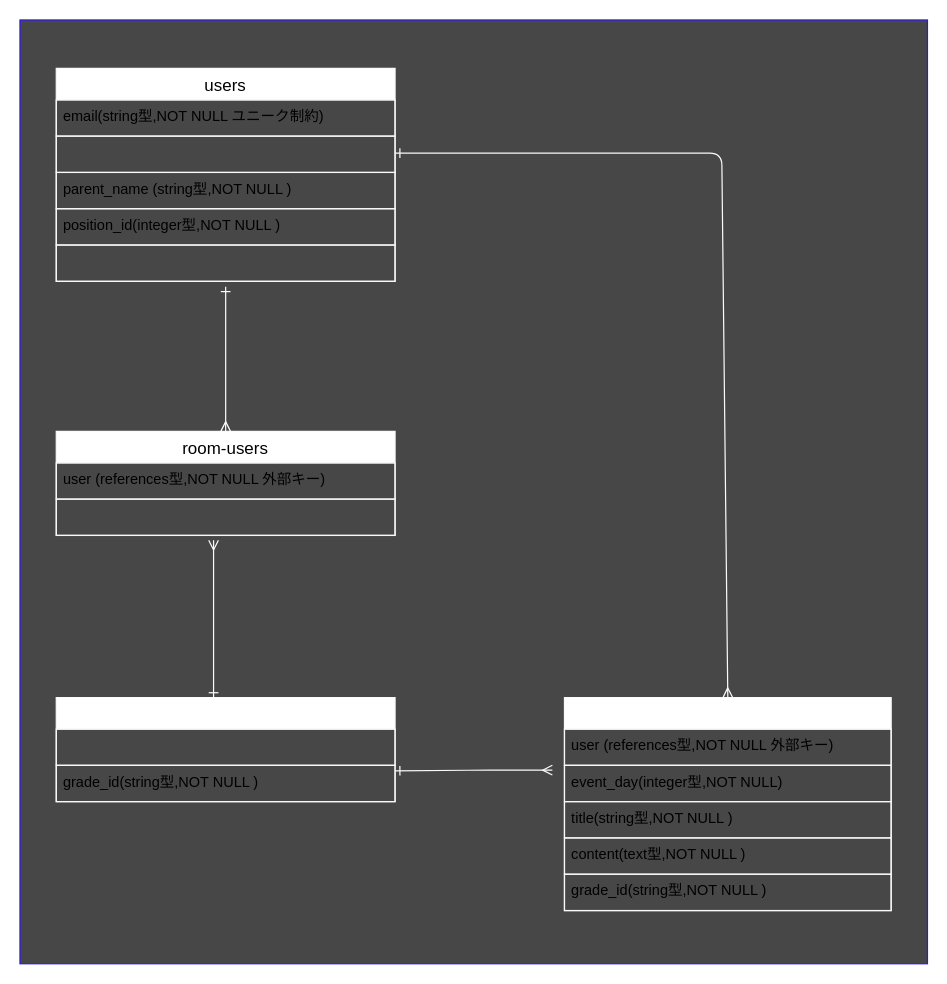
This 947x984 diagram has some shape labels left out. Here are the shapes that lost their labels. From the top down, the box of each, then its label:
(55, 135, 395, 172): encrypted_password (string型,NOT NULL )
(55, 244, 395, 281): position_code(integer型,NOT NULL )
(55, 498, 395, 535): room (references型,NOT NULL 外部キー)
(55, 728, 395, 765): name(string型,NOT NULL )
(55, 696, 395, 802): rooms
(563, 696, 891, 911): events
